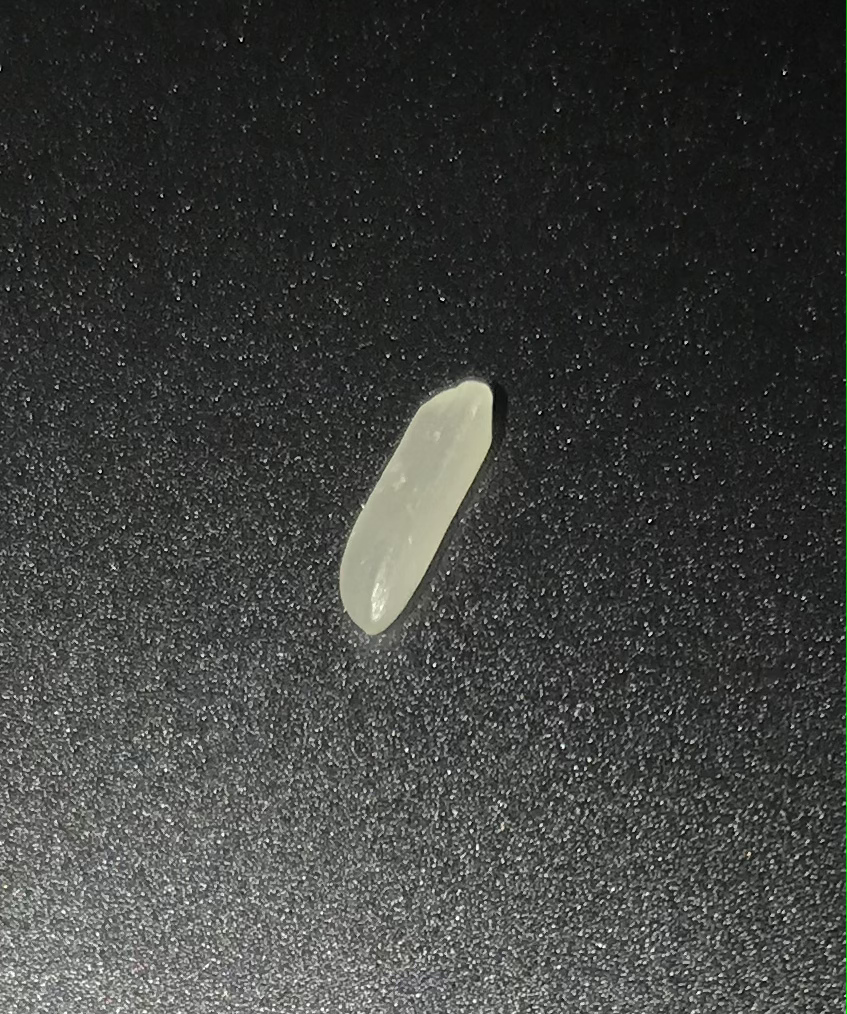Gao Thom My: (304, 372, 501, 644)
